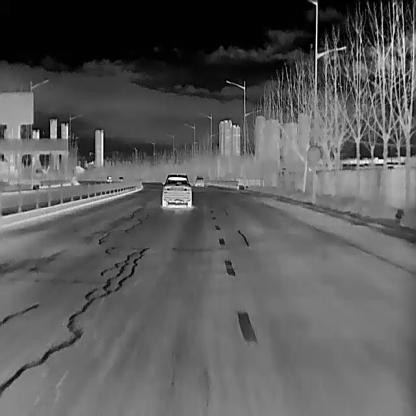car: (161, 173, 191, 208), (194, 175, 204, 186), (104, 175, 112, 182), (116, 176, 124, 181)
